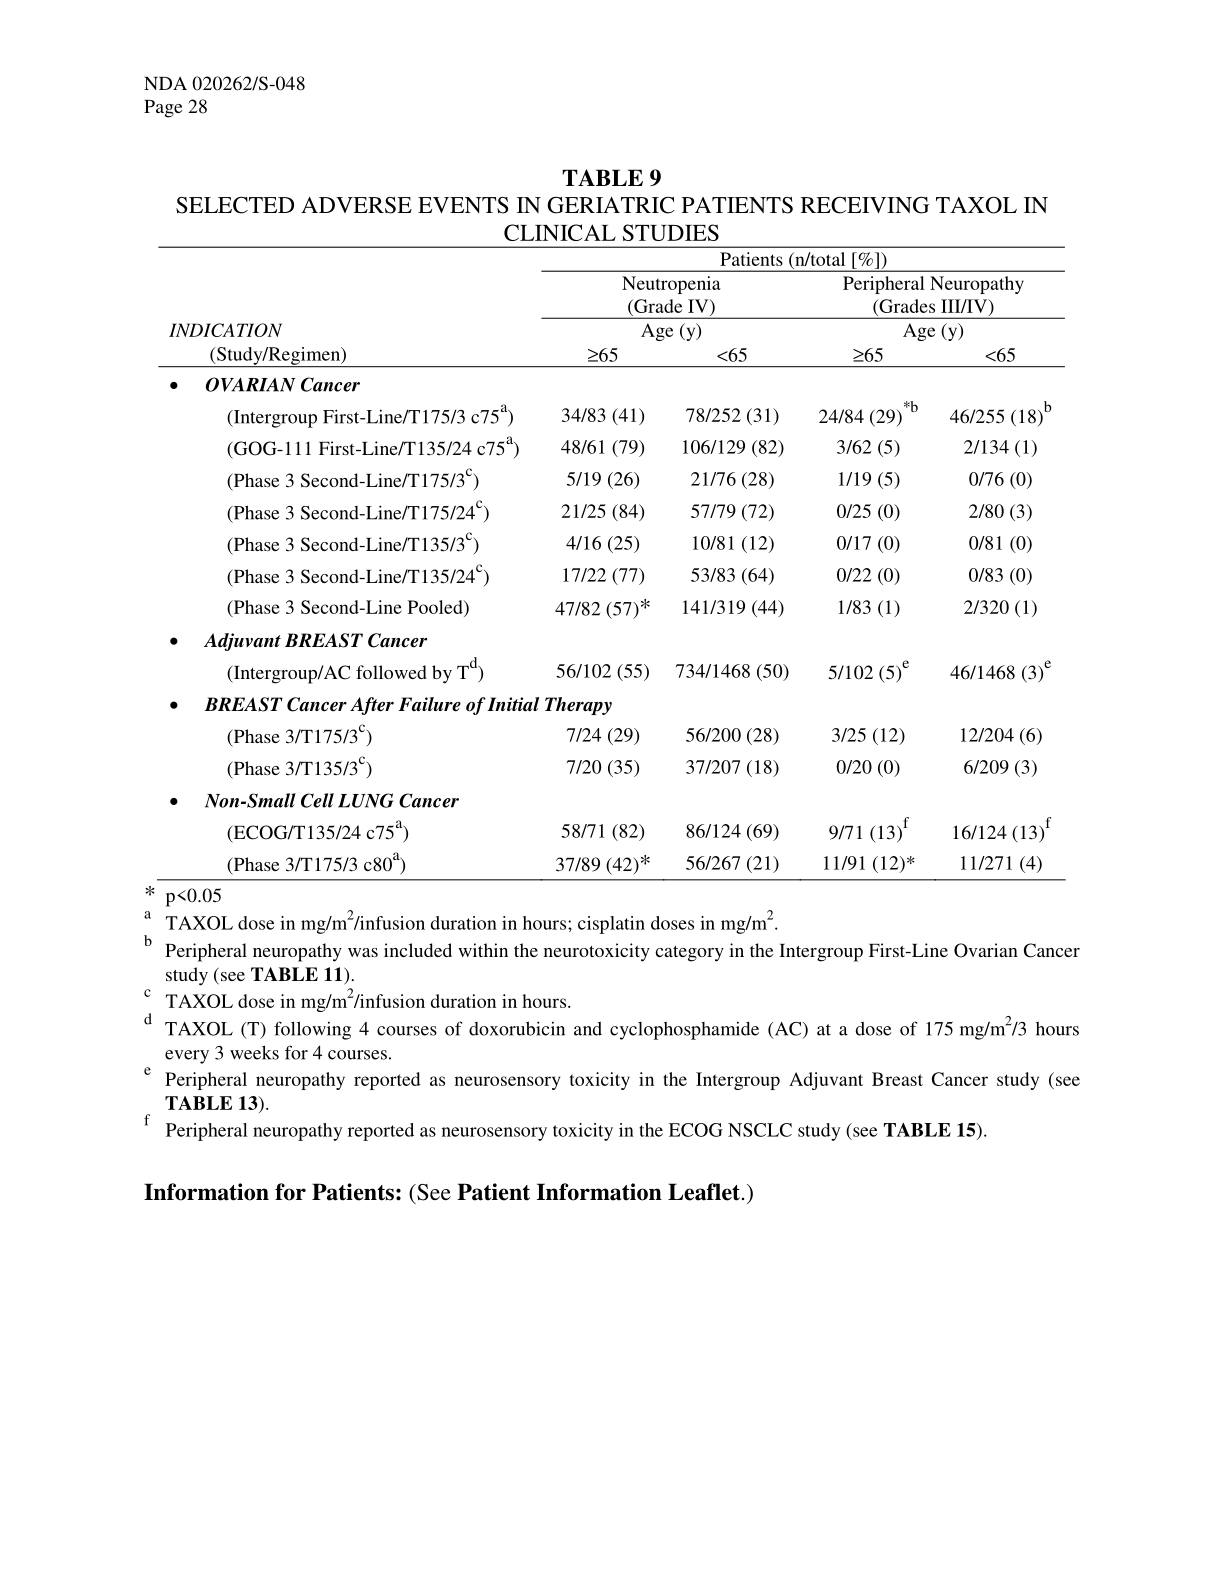partial_lined_merged_cells: (157, 244, 1067, 883)
